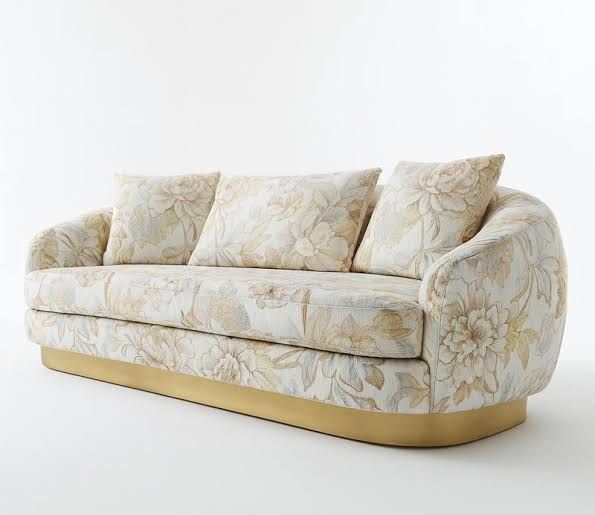3seatersofa: (26, 155, 566, 444)
base: (27, 313, 427, 411)
leftarmrest: (419, 188, 566, 412)
leg: (42, 347, 526, 446)
pillow: (104, 156, 503, 278)
rightarmrest: (26, 210, 111, 272)
seat: (25, 265, 428, 357)
